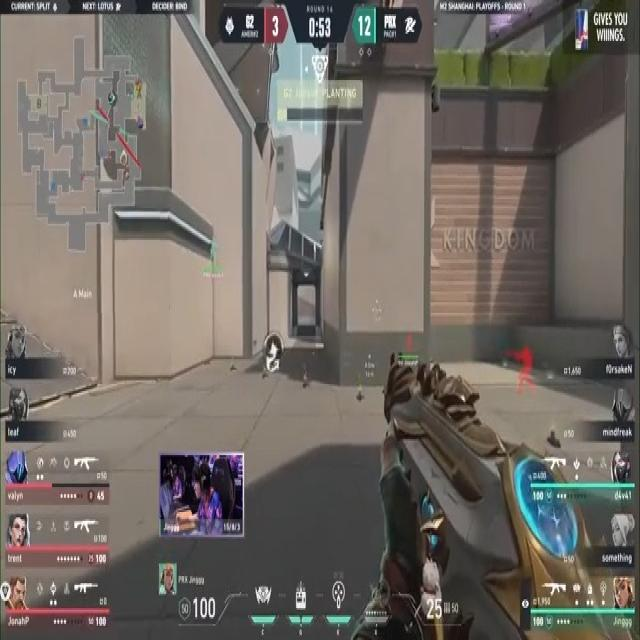orb: (266, 329, 284, 374)
